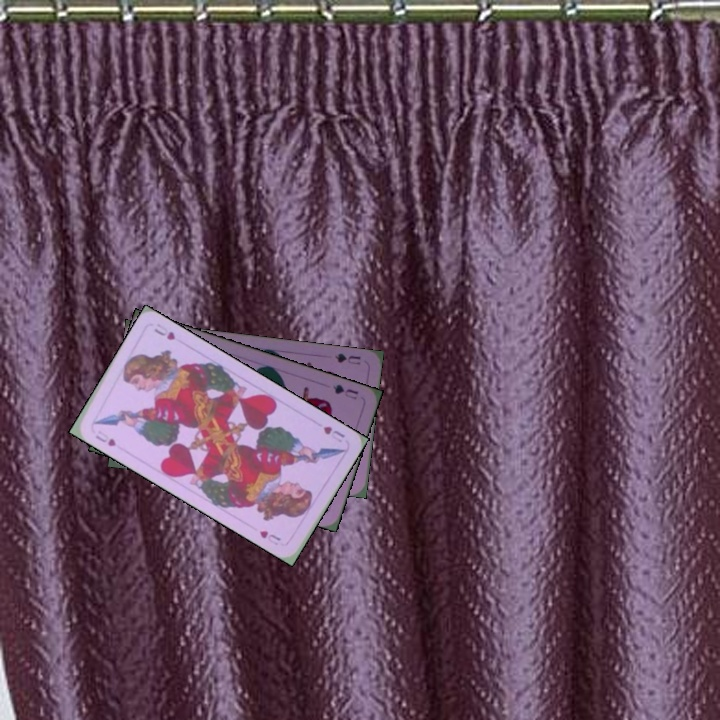GU: (329, 380, 361, 402), (330, 349, 363, 367)
HU: (319, 422, 347, 445), (91, 426, 119, 449)
